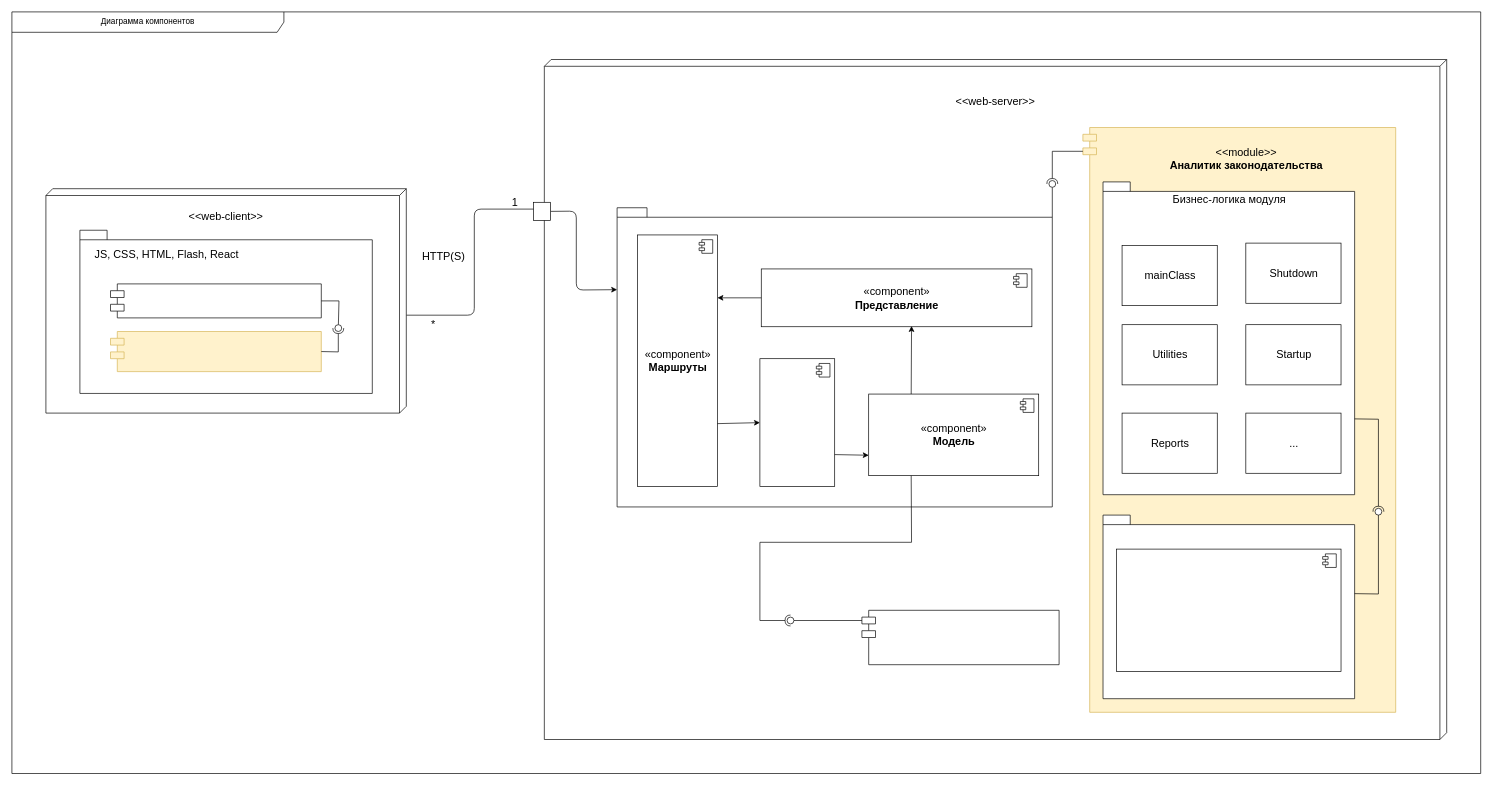
This 1493x785 diagram has some shape labels left out. The shapes that lost their labels are listed below. From the top down, each one's centre as x and y in pixels, then its label:
At (215,300): "Module (base)".
At (215,351): "Аналитик законодательства".
At (797,422): "«component» Контроллер".
At (1228,610): "«components» Представление, контроллер, модель, маршруты.".
At (960,637): "СУБД".
